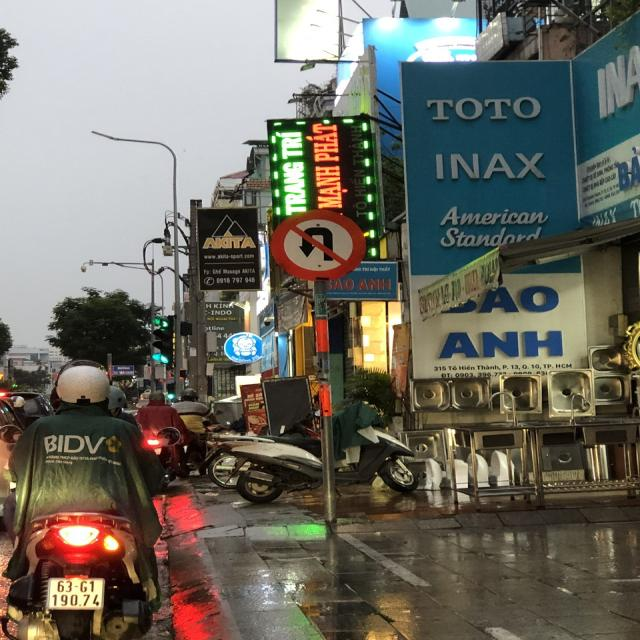Bien bao cam quay dau xe: (262, 208, 372, 282)
